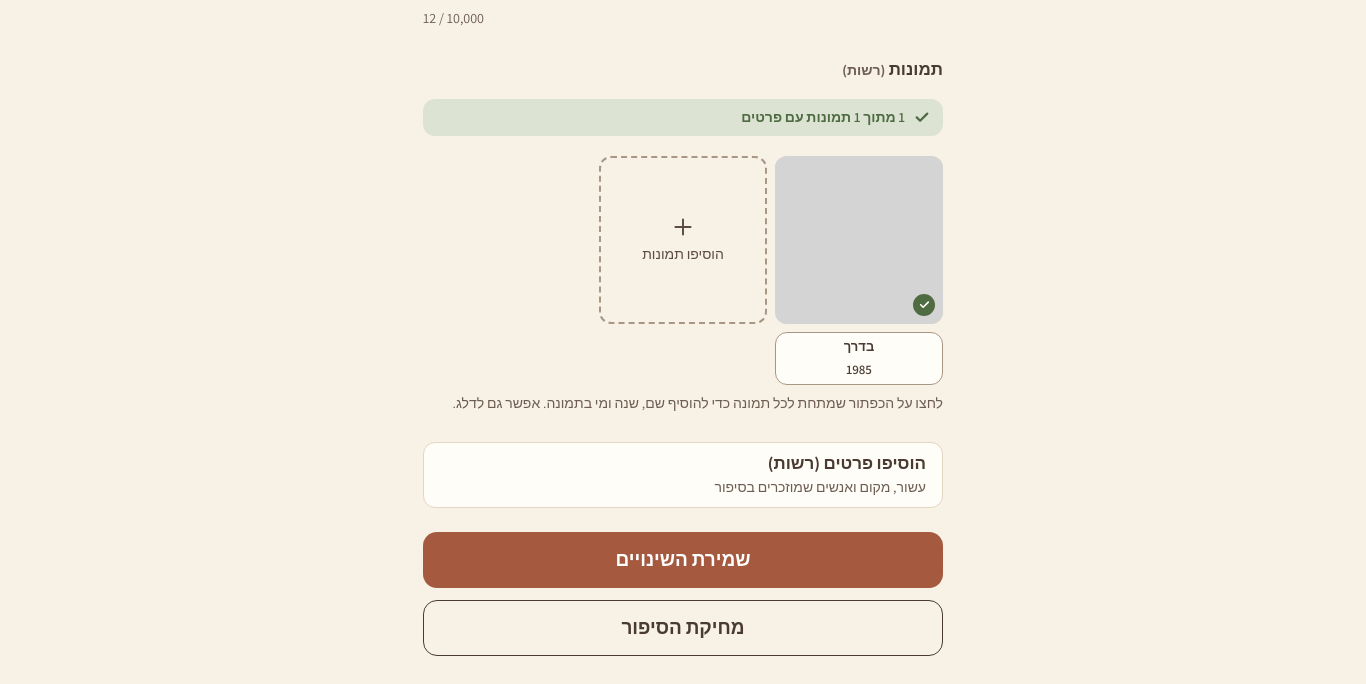
Test: editing a story › deletes the story after confirming, and forgets it
(page scrolled)
Click the button "מחיקת הסיפור". click: (683, 628)
box: [423,600,943,656]
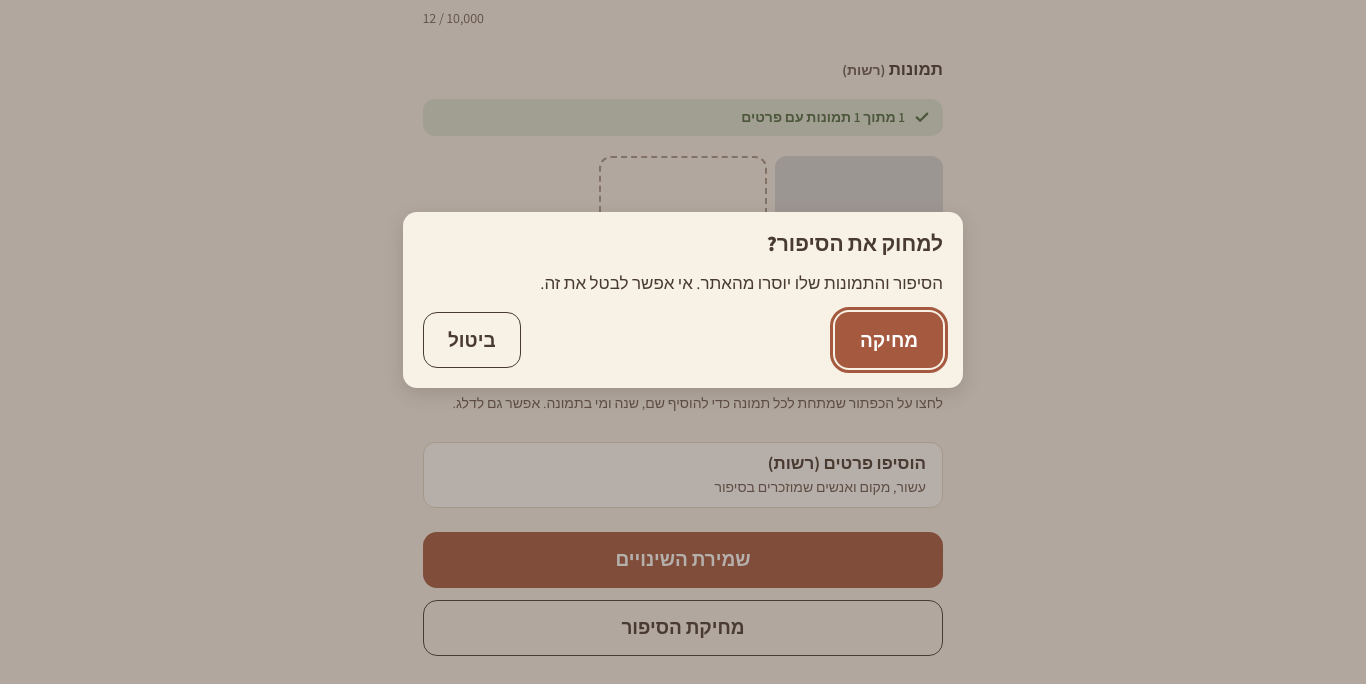
Click the button "מחיקה". click: (889, 340)
box: [835,312,943,368]
(page scrolled)
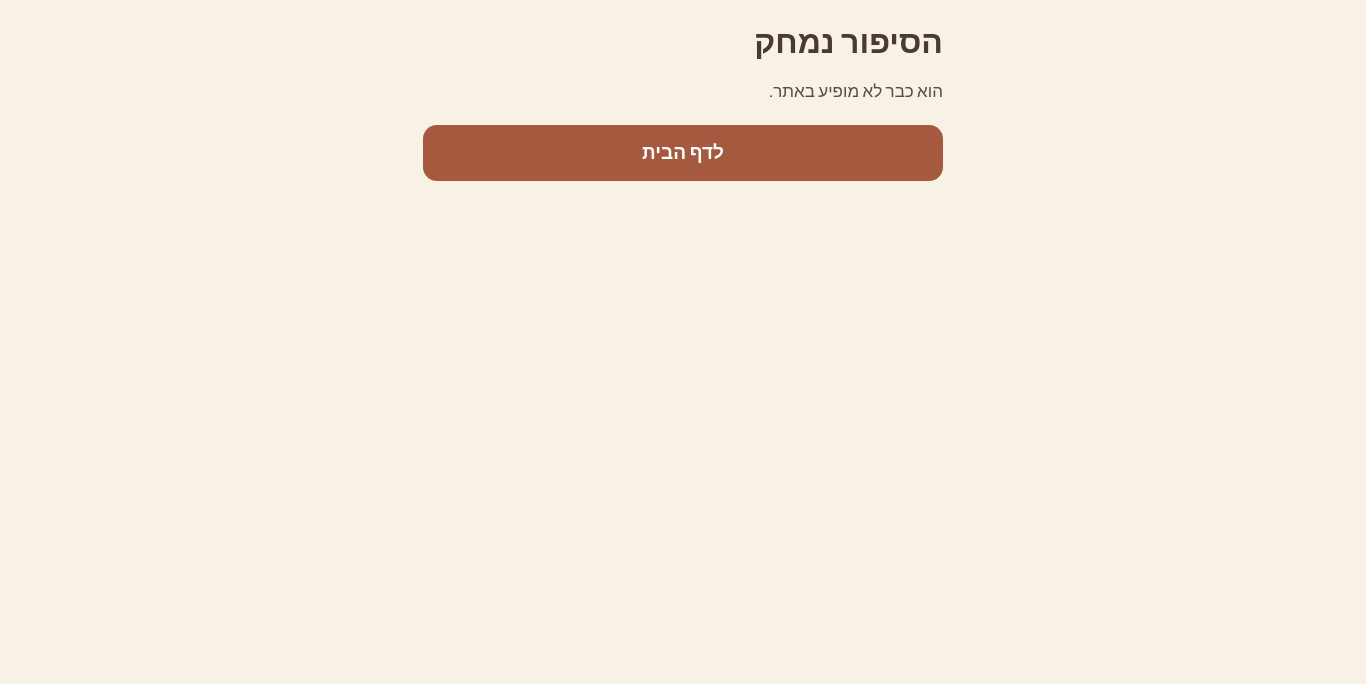
Check: the heading "הסיפור נמחק" is shown, box [754,20,943,62]
